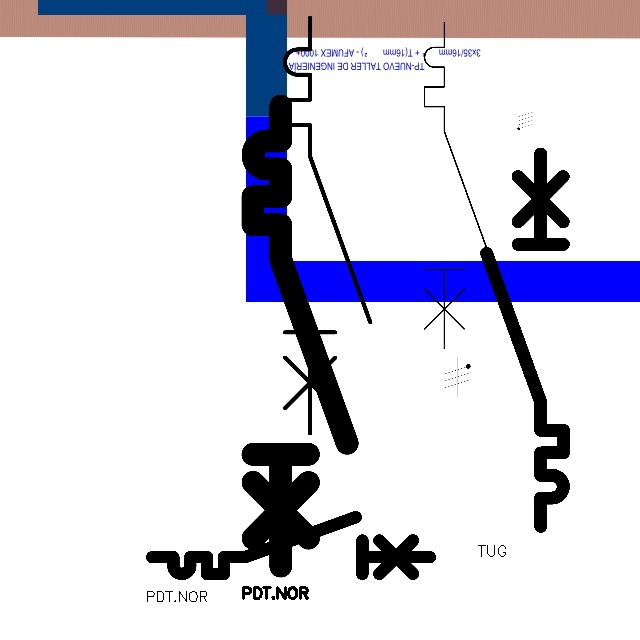interruptor_termomagnetico: (241, 94, 359, 578), (274, 7, 381, 444), (477, 144, 573, 535), (416, 14, 500, 357), (145, 510, 437, 581)
